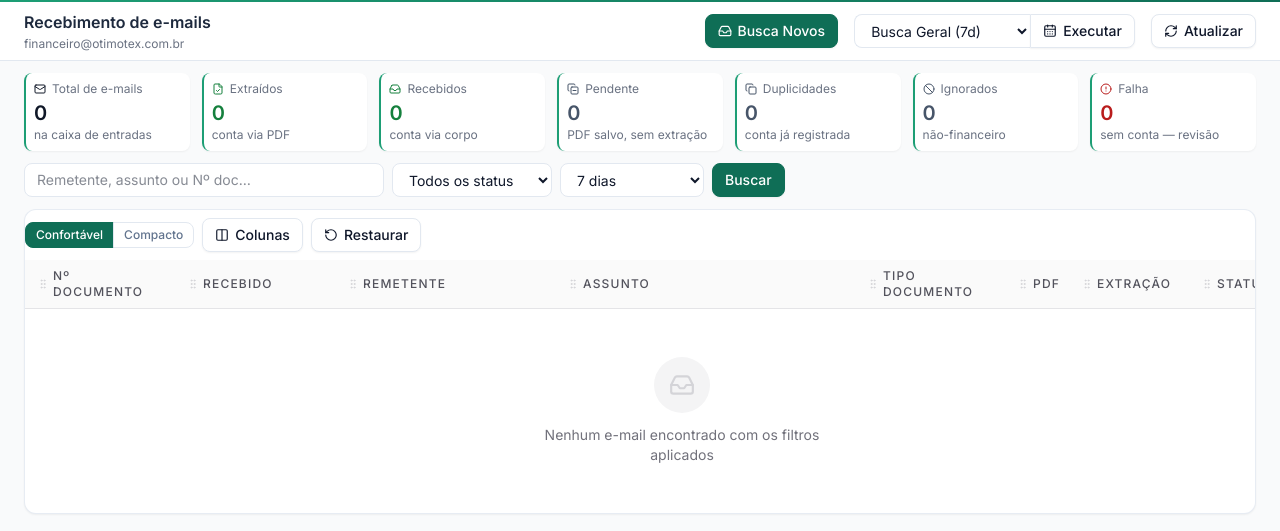
Emails › o ícone de limpar aparece com texto e zera a busca
Type "ACME" into the field with placeholder "Remetente, assunto ou Nº doc…" at (204, 180), box x1=24 y1=163 x2=384 y2=197
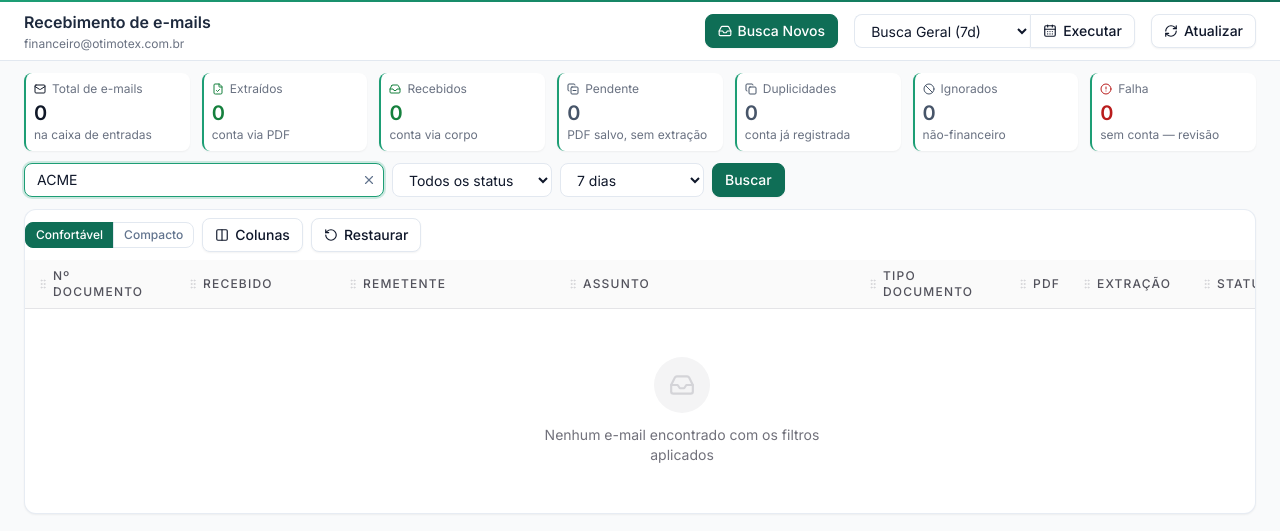
Click the button named "Limpar busca" at (369, 180), box x1=362 y1=173 x2=376 y2=187
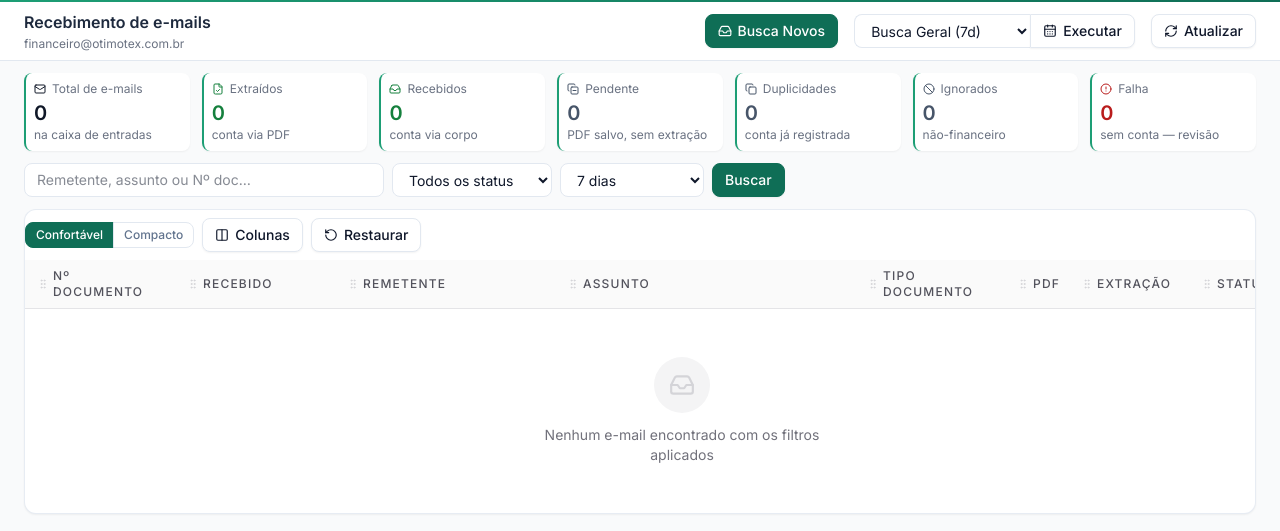
expect the field with placeholder "Remetente, assunto ou Nº doc…" is empty: met, box x1=24 y1=163 x2=384 y2=197
